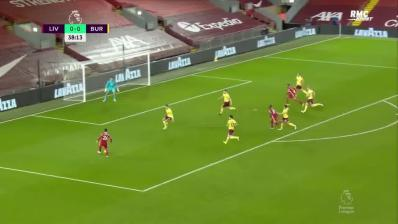player: (300, 85, 324, 115), (95, 126, 114, 158), (222, 114, 241, 146), (218, 88, 239, 114), (102, 76, 120, 104), (280, 105, 297, 131), (161, 104, 175, 131), (267, 104, 281, 130), (285, 83, 300, 105), (295, 72, 308, 96)
